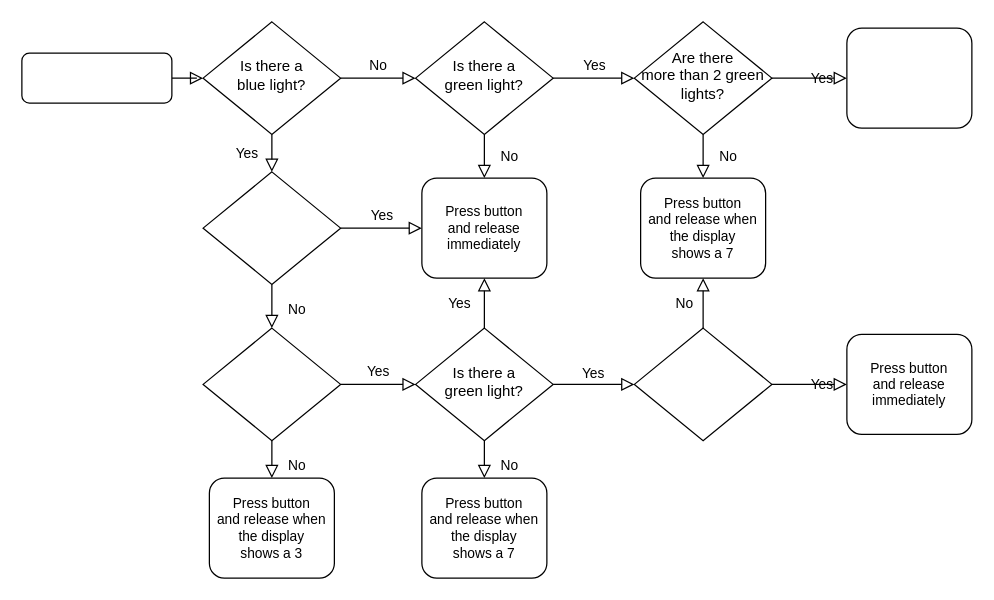
The diagram is 994 pixels wide and 600 high, and some of its shapes have lost their labels. Here are the shapes that lost their labels. From the top down, the centre of each, then its label:
the point at 96,77: Look at the four lights around the button
the point at 909,77: Press button and release when the display shows a 9
the point at 271,227: Is there more than one blue light?
the point at 271,384: Is there a red light?
the point at 702,384: Is there a digit in the serial number?
